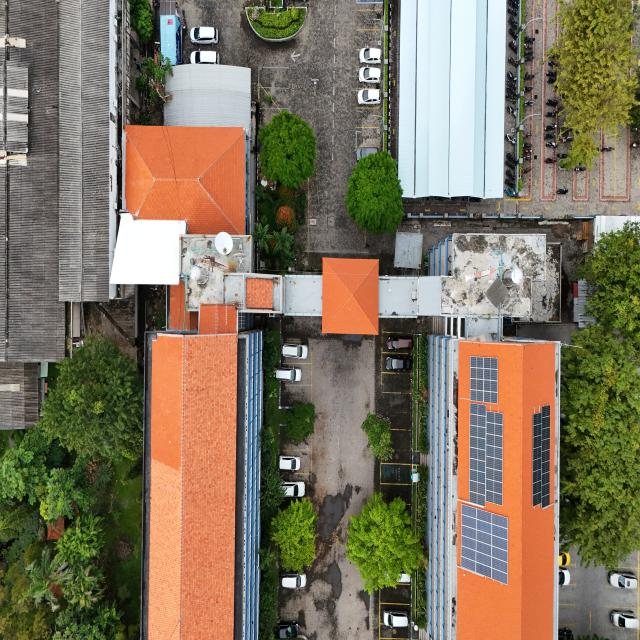Tree: (343, 490, 424, 592), (252, 112, 319, 193), (345, 152, 409, 232), (266, 497, 321, 572), (37, 464, 85, 526), (358, 411, 403, 463)
